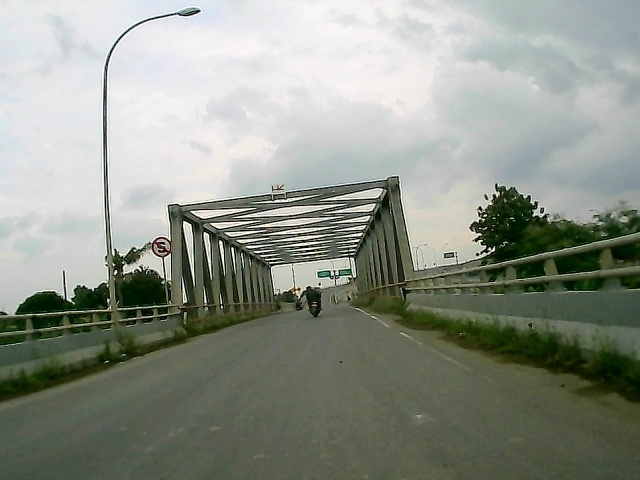Dilarang berhenti: (148, 236, 171, 261)
